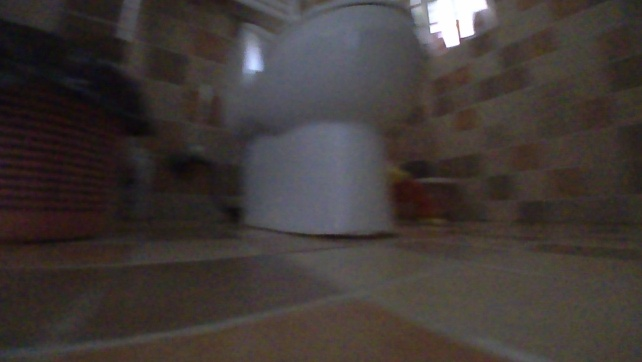toilet: (236, 0, 426, 245)
